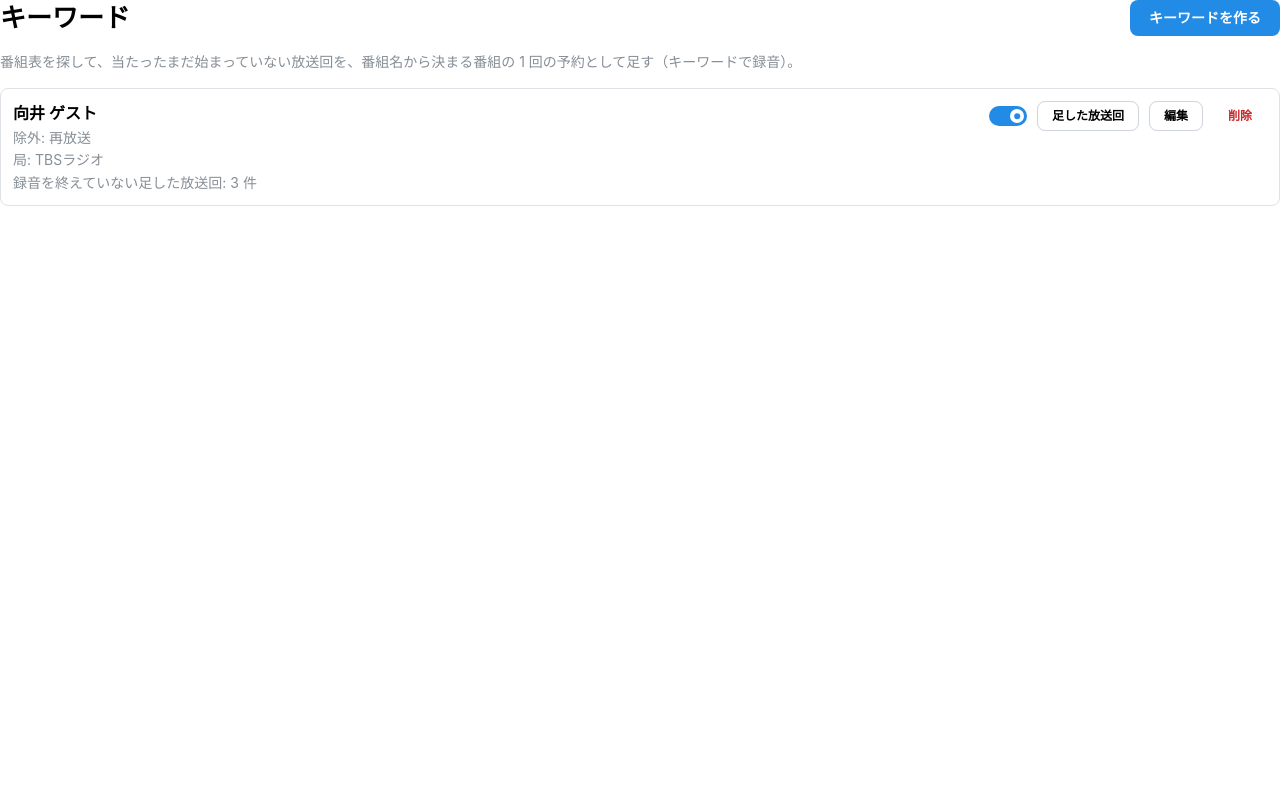
Scenario: KeywordsPage › 有効／無効のスイッチで PUT し、消すと DELETE する
This screenshot has width=1280, height=800.
Click the switch named "向井 ゲスト を有効にする" at (1008, 116), box [989,106,1027,126]
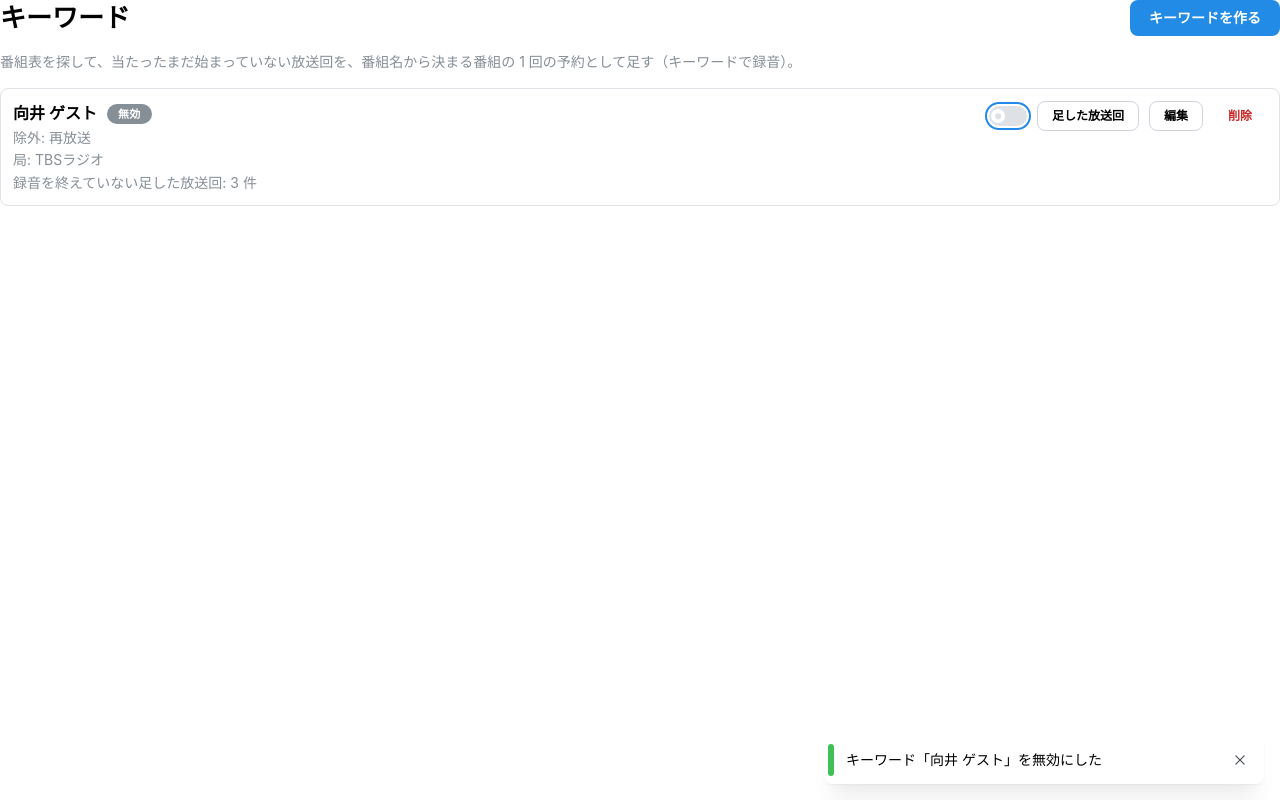
Result: the text "無効" is shown at [118,105,140,123]
Click the button with aria-label "向井 ゲスト を消す" at (1240, 116), box [1213,101,1267,131]
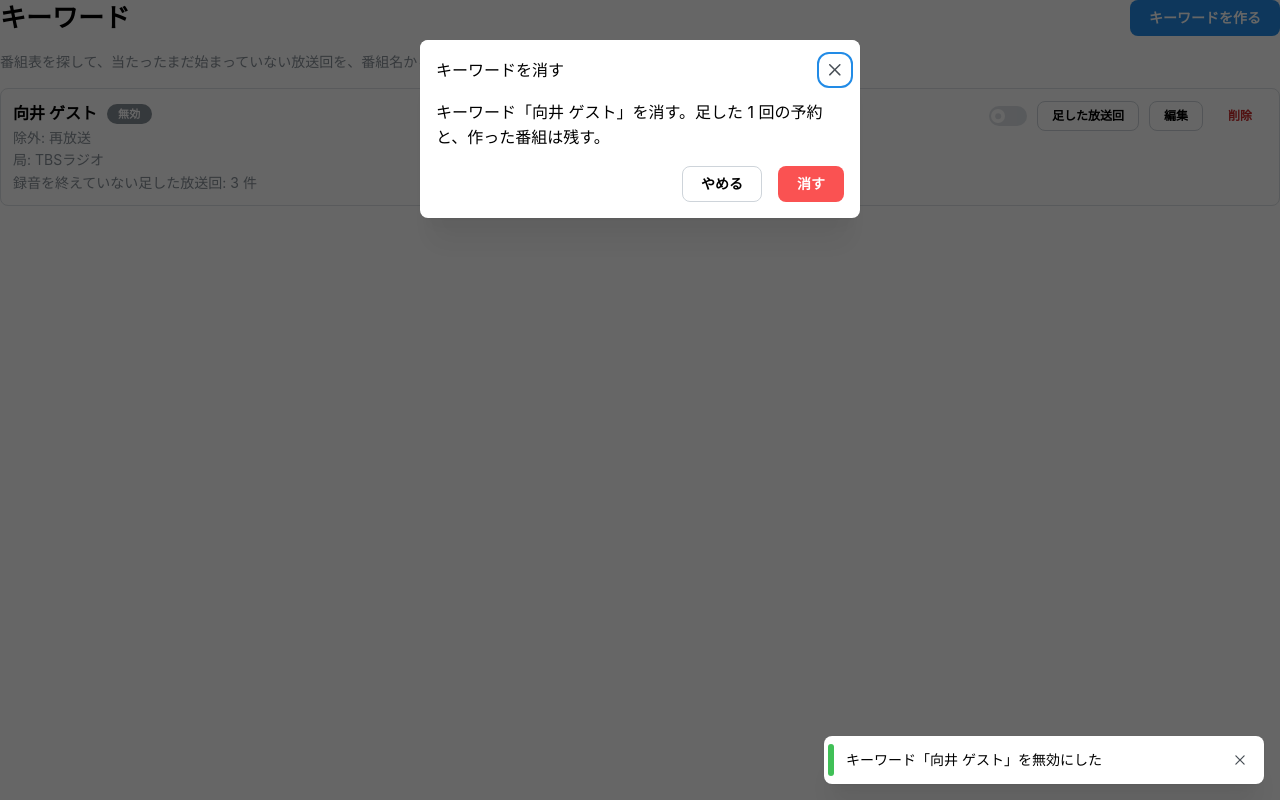
Result: the dialog shows "足した 1 回の予約と、作った番組は残す" at [436,102,822,147]
Click the button "消す" at (811, 184), box [778,166,844,202]
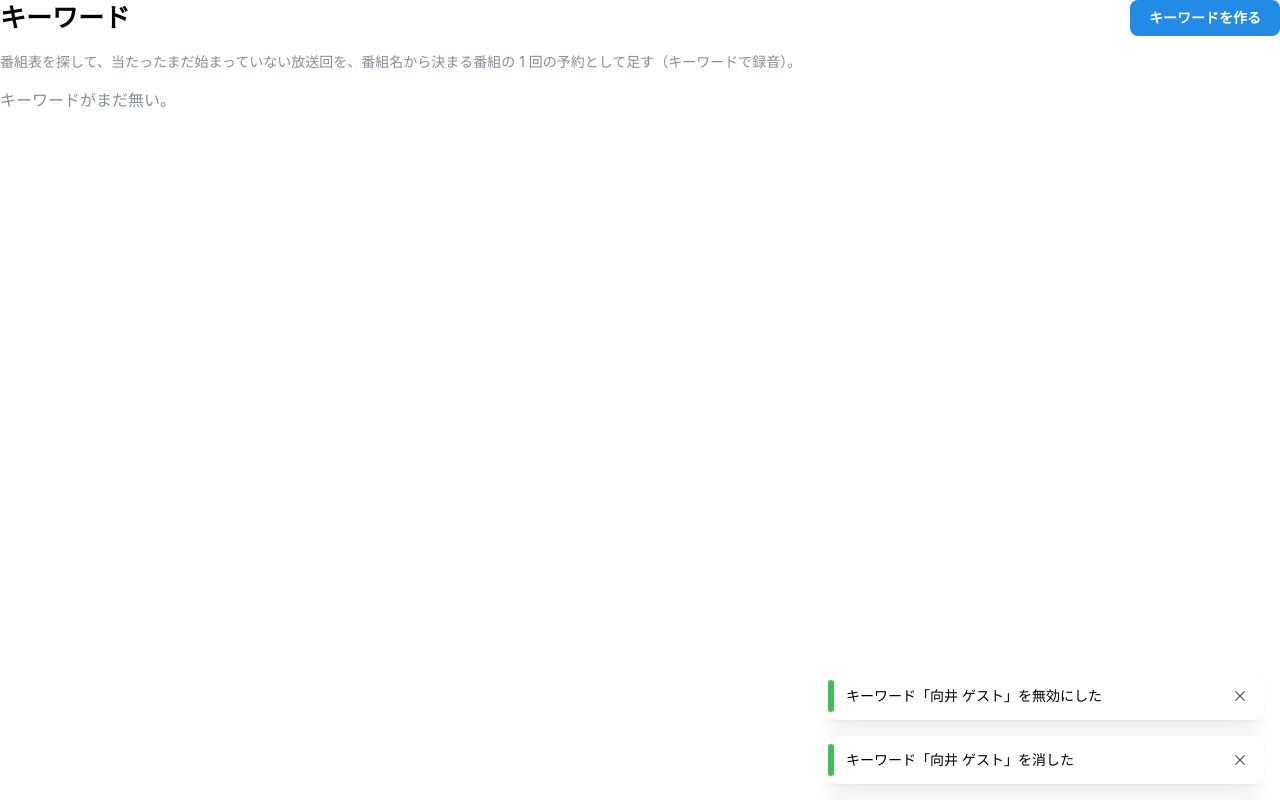
Result: the text "キーワードがまだ無い。" is shown at [0,90,176,110]
